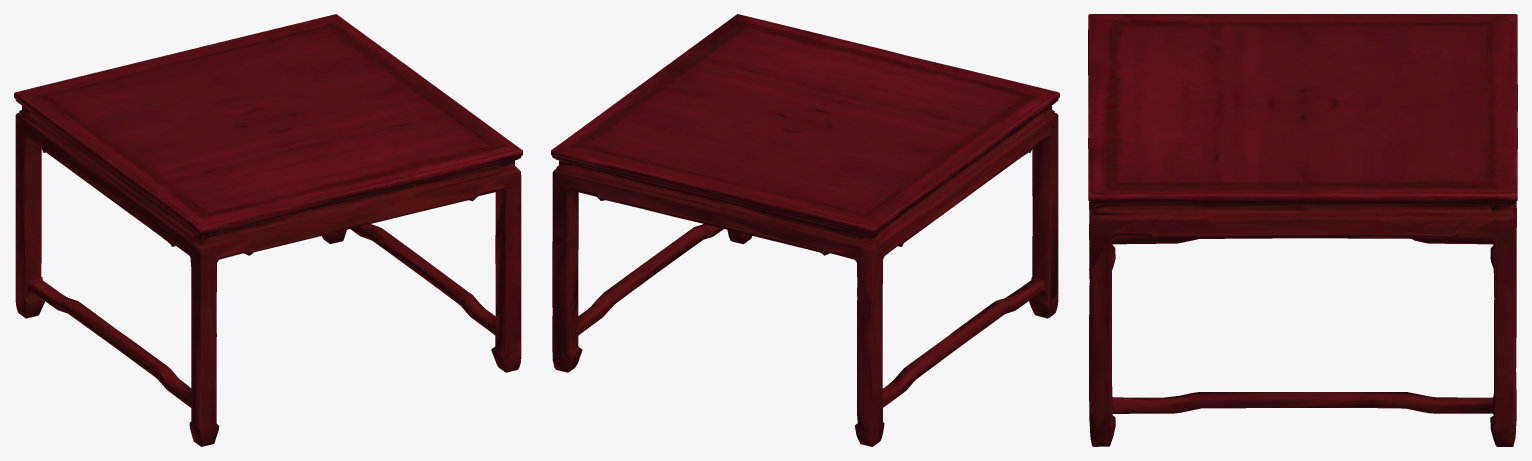
The model's file is pr_table_long.glb.
3 renders of one model, left to right at view 1: azimuth 30°, elevation 25°; view 2: azimuth 150°, elevation 25°; view 3: azimuth 270°, elevation 25°, orthographic. The views are drawn at different scales.
Bounding box in the file's own units: 1.9 × 1.24 × 1.9.
1 material, 1 textured.
